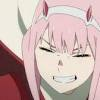zeroTwo: (26, 1, 100, 93)
